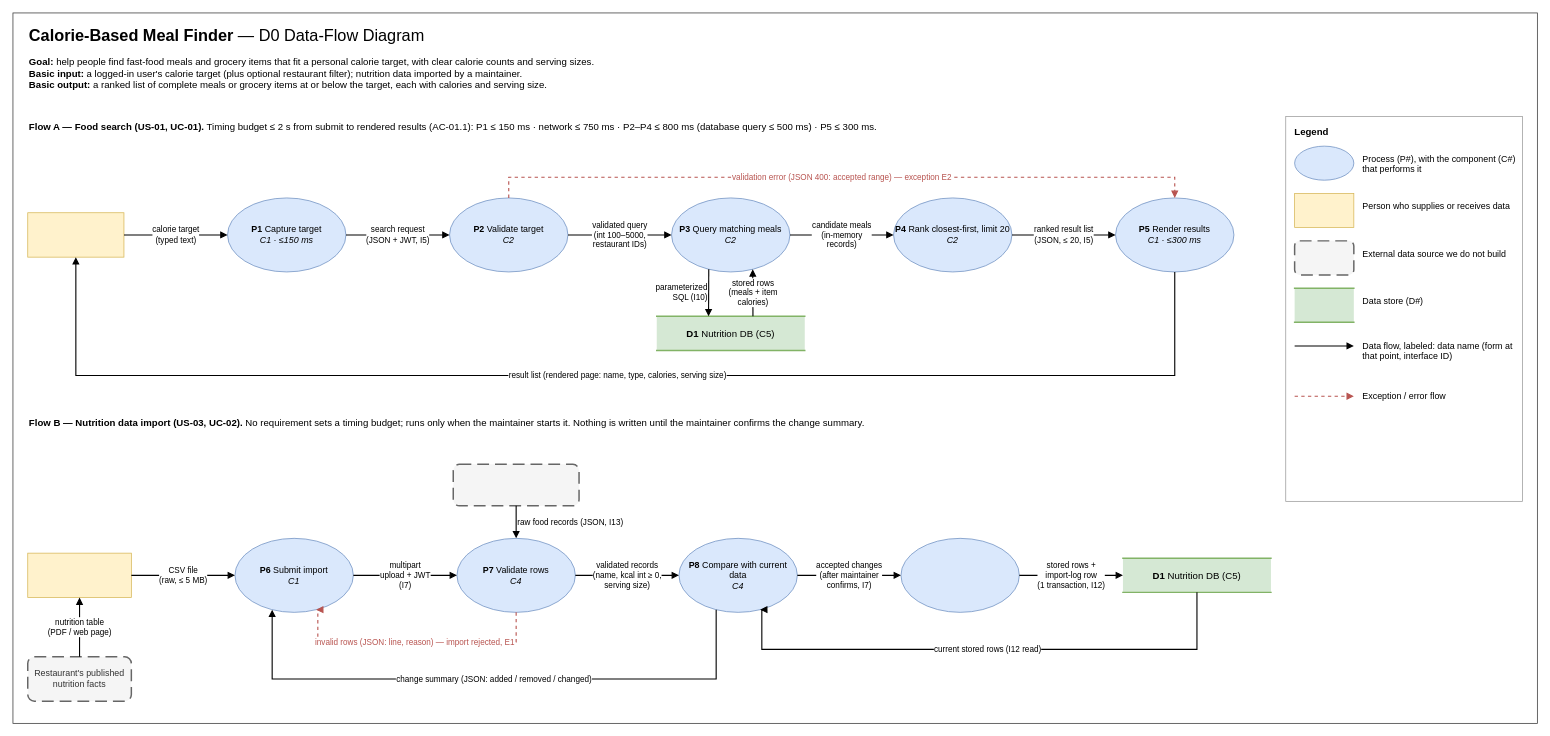
This 1550x736 diagram has some shape labels left out. Here are the shapes that lost their labels. From the top down, the centre of each, then its label:
the point at 75,234: Customer
the point at 515,484: E2 USDA FoodData Central
the point at 79,575: Maintainer
the point at 959,575: P9 Commit + recalculate meal totals C4
